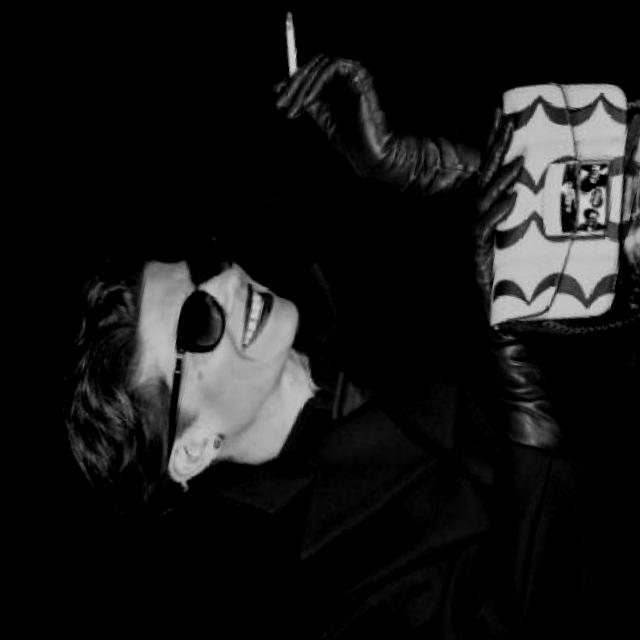cigarette: (269, 7, 312, 84)
